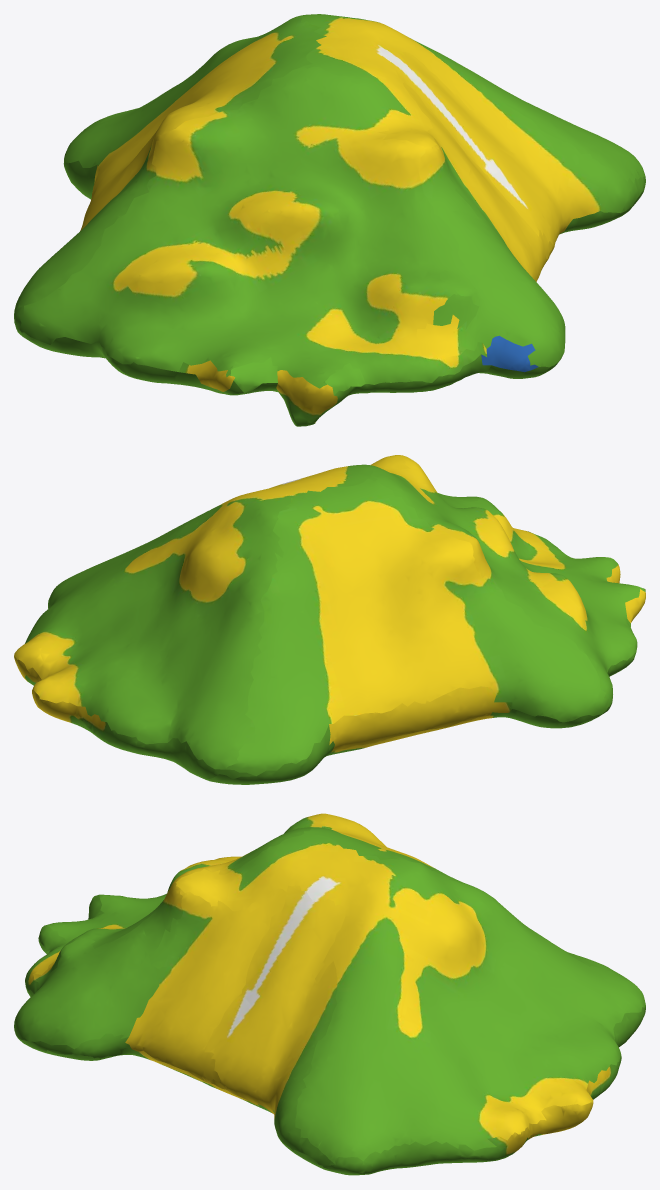
File: multiclimb.glb
3 views of the same model, one above another, from view 1: azimuth 30°, elevation 25°; view 2: azimuth 150°, elevation 25°; view 3: azimuth 270°, elevation 25° (orthographic). The views are drawn at different scales.
Parts seen in each view (by area): view 1: geometry_0; view 2: geometry_0; view 3: geometry_0.
Boxes of the visible parts, <box> form: geometry_0: <box>14,14,645,426</box>; geometry_0: <box>14,455,645,784</box>; geometry_0: <box>14,813,645,1175</box>.
Size of the model in its own units: 0.9029 by 0.3432 by 0.886.
Materials: 1 (1 with a texture image).
